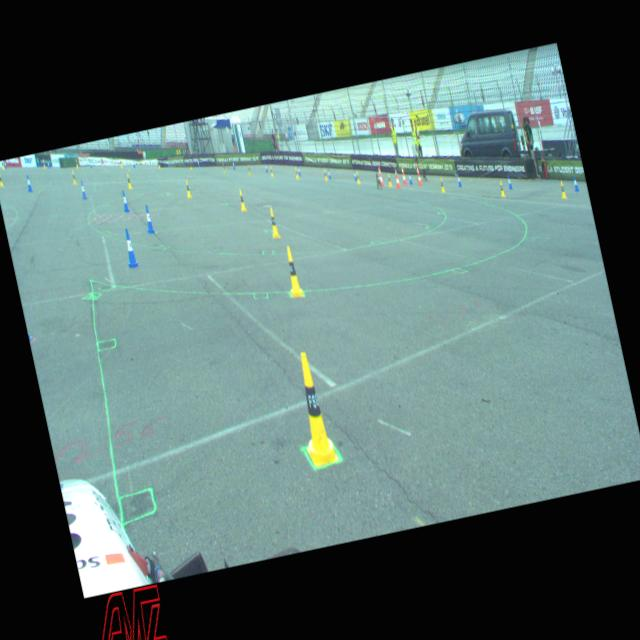blue_cone: (121, 228, 140, 268), (142, 204, 154, 234), (120, 190, 130, 212), (78, 180, 87, 200), (24, 174, 32, 191), (572, 176, 578, 192), (456, 173, 462, 186), (507, 174, 512, 188), (326, 168, 331, 179), (352, 170, 357, 180), (408, 172, 412, 184), (264, 162, 268, 172), (297, 166, 301, 176), (46, 158, 50, 168), (166, 158, 170, 167), (3, 159, 7, 167), (132, 158, 135, 168), (232, 160, 235, 169), (89, 159, 92, 168), (197, 158, 200, 167)
large_orange_cone: (392, 166, 401, 188), (376, 164, 384, 186), (414, 164, 422, 184), (399, 164, 406, 184)
yellow_cone: (286, 349, 339, 468), (281, 244, 303, 298), (266, 207, 280, 238), (237, 188, 247, 212), (558, 180, 566, 200), (183, 178, 191, 198), (498, 180, 505, 197), (125, 172, 132, 188), (438, 177, 444, 193), (71, 170, 77, 184), (386, 173, 392, 186), (323, 168, 328, 181), (355, 170, 360, 183), (294, 166, 298, 178), (269, 166, 273, 177), (247, 164, 251, 174), (42, 158, 46, 168), (222, 162, 226, 172), (119, 158, 123, 168), (0, 172, 3, 185), (0, 160, 4, 169), (188, 161, 192, 170), (74, 158, 78, 166), (158, 160, 160, 168)
